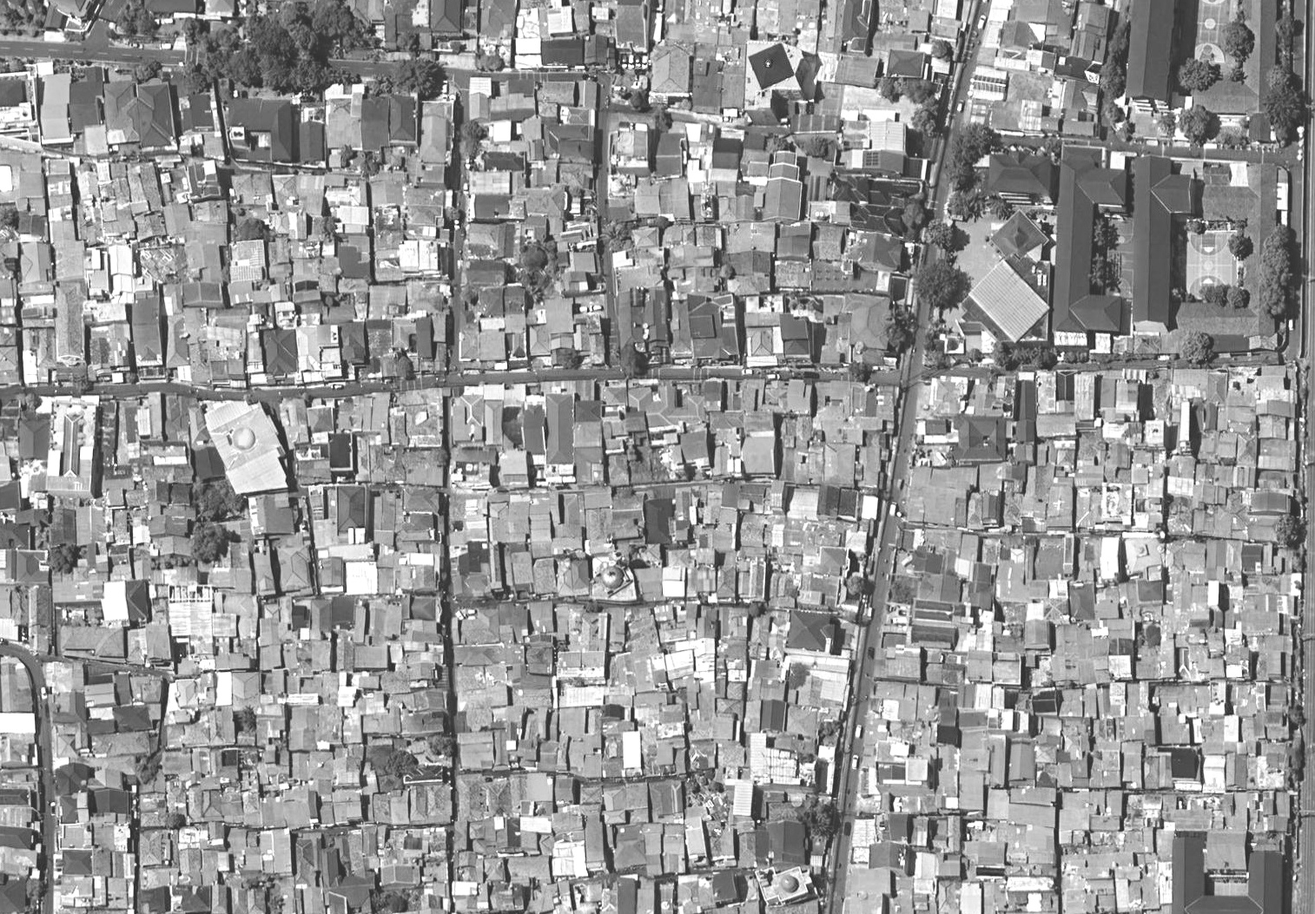building: (1173, 160, 1289, 355), (1051, 147, 1128, 336), (1188, 0, 1279, 142), (1130, 155, 1195, 330), (201, 381, 292, 506), (948, 258, 1052, 361), (1171, 838, 1282, 913), (736, 42, 814, 125), (45, 392, 100, 502), (826, 175, 922, 237), (1122, 0, 1175, 111), (224, 96, 297, 162), (804, 261, 911, 304), (906, 463, 973, 529), (99, 401, 140, 506), (616, 287, 669, 368), (625, 378, 704, 432), (982, 145, 1052, 205), (686, 292, 740, 369), (988, 209, 1052, 273), (836, 294, 892, 366), (128, 276, 165, 383), (839, 122, 935, 163), (611, 224, 667, 290), (173, 93, 224, 165), (838, 85, 921, 129), (842, 232, 919, 279), (166, 584, 215, 655), (815, 382, 898, 422), (291, 323, 343, 385), (36, 63, 74, 146), (136, 80, 178, 154), (782, 672, 850, 717), (994, 531, 1036, 603), (102, 68, 140, 147), (759, 151, 801, 221), (84, 325, 132, 386), (0, 72, 39, 145), (809, 296, 848, 368), (246, 493, 307, 539), (836, 152, 928, 182), (648, 43, 693, 104), (684, 121, 721, 195), (274, 535, 315, 600), (55, 626, 125, 664), (953, 417, 1010, 463), (476, 0, 515, 67), (1192, 492, 1247, 539), (1163, 571, 1204, 634), (753, 865, 811, 909), (324, 85, 363, 150), (815, 414, 887, 449), (14, 393, 51, 461), (958, 732, 989, 813), (66, 67, 104, 133), (401, 733, 454, 779), (55, 285, 86, 363), (663, 426, 712, 475), (785, 611, 838, 656), (1170, 369, 1211, 427), (403, 388, 443, 447), (906, 603, 956, 650), (1005, 70, 1064, 109), (1013, 0, 1075, 37), (415, 101, 452, 163), (306, 485, 342, 548), (717, 0, 754, 61), (747, 609, 788, 663), (365, 487, 400, 550), (928, 370, 973, 419), (543, 394, 574, 464), (776, 0, 820, 49), (113, 665, 165, 706), (1054, 627, 1092, 683), (247, 537, 280, 600), (50, 222, 84, 283), (0, 656, 36, 713), (1002, 825, 1056, 863), (610, 127, 651, 177), (40, 0, 100, 34), (639, 490, 675, 546), (1196, 716, 1245, 757), (28, 586, 56, 656), (319, 847, 348, 914), (971, 373, 1013, 419), (725, 254, 772, 295), (400, 544, 438, 594), (1111, 329, 1184, 355), (840, 0, 873, 56), (746, 660, 786, 706), (127, 161, 161, 215), (779, 315, 813, 369), (607, 823, 646, 870), (912, 570, 964, 605), (598, 654, 633, 706), (146, 483, 196, 519), (591, 561, 636, 601), (783, 519, 841, 550), (766, 823, 805, 869), (451, 387, 483, 443), (628, 648, 666, 695), (553, 650, 604, 685), (17, 242, 51, 294), (275, 396, 309, 448), (22, 329, 53, 386), (365, 321, 396, 378), (227, 239, 266, 284), (620, 609, 659, 654), (796, 575, 842, 613), (1094, 484, 1131, 531), (608, 493, 645, 540), (820, 443, 857, 490), (53, 877, 107, 909), (876, 763, 930, 795), (87, 756, 136, 791), (18, 155, 46, 216), (1114, 368, 1145, 423), (962, 565, 998, 612), (785, 654, 850, 680), (466, 196, 524, 225), (1205, 831, 1247, 871), (361, 94, 389, 154), (163, 677, 198, 725), (185, 161, 224, 204), (1124, 537, 1161, 582), (1091, 368, 1121, 423), (723, 222, 773, 255), (1130, 450, 1165, 497), (550, 490, 585, 537), (1086, 747, 1121, 794), (745, 326, 784, 368), (1221, 789, 1259, 832), (956, 611, 994, 654), (616, 1, 648, 52), (691, 62, 723, 113), (660, 0, 696, 45), (543, 127, 592, 160), (667, 302, 693, 364), (875, 648, 921, 683), (710, 126, 745, 172), (227, 828, 261, 875), (90, 732, 151, 758), (260, 828, 292, 877), (978, 461, 1027, 493), (1059, 856, 1086, 914), (694, 0, 721, 58), (831, 55, 877, 89), (0, 770, 39, 810), (502, 385, 526, 450), (1072, 0, 1113, 38), (109, 244, 134, 306), (709, 414, 744, 458), (738, 134, 771, 180), (161, 316, 189, 370), (669, 271, 723, 299), (655, 126, 684, 178), (998, 21, 1045, 53), (1171, 749, 1203, 796), (1024, 595, 1071, 627), (650, 777, 682, 824), (144, 625, 174, 675), (327, 433, 357, 483), (134, 391, 162, 444), (139, 830, 177, 869), (536, 81, 574, 120), (366, 285, 406, 322), (402, 449, 442, 486), (716, 745, 752, 786), (912, 525, 961, 555), (582, 813, 606, 874), (1019, 100, 1062, 134), (263, 330, 297, 373), (869, 30, 916, 61), (389, 94, 417, 146), (655, 179, 688, 223), (684, 810, 709, 868), (183, 244, 220, 283), (191, 443, 227, 483), (398, 512, 443, 544), (1008, 799, 1056, 829), (775, 221, 811, 261), (881, 50, 926, 82), (1067, 29, 1108, 64), (337, 235, 371, 277), (352, 641, 403, 669), (221, 868, 252, 914), (272, 298, 321, 327), (229, 170, 272, 203), (1242, 572, 1301, 596), (83, 247, 109, 301), (733, 182, 764, 227), (457, 608, 498, 642), (206, 564, 252, 594), (387, 689, 447, 712), (40, 662, 83, 694), (742, 295, 785, 327), (114, 705, 163, 733), (18, 294, 57, 329), (270, 171, 301, 215), (606, 175, 635, 222), (480, 385, 503, 444), (459, 731, 492, 772), (811, 224, 844, 265), (210, 590, 260, 617), (307, 398, 337, 443), (292, 837, 319, 887), (48, 502, 77, 548), (361, 823, 390, 869), (1240, 544, 1283, 575), (323, 175, 366, 206), (855, 446, 886, 489), (969, 67, 1007, 102), (660, 647, 698, 682), (1061, 79, 1100, 113), (1083, 854, 1134, 880), (812, 747, 838, 798), (725, 379, 764, 413), (472, 149, 525, 174), (1004, 743, 1034, 787), (1226, 366, 1258, 407), (987, 706, 1028, 738), (88, 792, 133, 821), (287, 707, 316, 752), (298, 122, 325, 170), (638, 725, 662, 779), (551, 842, 586, 879), (0, 733, 38, 767), (455, 693, 489, 731), (1259, 743, 1289, 786), (1021, 622, 1051, 665), (449, 465, 495, 493), (1176, 799, 1215, 832), (999, 481, 1025, 530), (849, 818, 875, 867), (743, 437, 774, 478), (337, 487, 364, 534), (14, 551, 50, 586), (291, 256, 319, 301), (346, 872, 376, 914), (487, 705, 524, 739), (843, 870, 893, 895), (162, 393, 188, 441), (177, 824, 225, 850), (366, 394, 390, 446), (406, 655, 445, 687), (497, 452, 529, 491), (674, 492, 700, 540), (572, 313, 601, 356), (540, 38, 583, 67), (525, 495, 552, 541), (458, 776, 485, 822), (462, 258, 506, 286), (557, 249, 601, 277), (74, 506, 104, 547), (419, 240, 449, 281), (332, 747, 362, 788), (602, 406, 627, 455), (813, 548, 850, 581), (457, 311, 480, 364), (407, 284, 449, 313), (714, 701, 743, 743), (163, 722, 208, 749), (316, 707, 343, 752), (1257, 440, 1296, 471), (46, 693, 85, 724), (92, 823, 135, 851), (749, 0, 777, 43), (507, 494, 531, 544), (721, 66, 745, 116), (925, 18, 965, 48), (667, 246, 719, 269), (294, 176, 323, 217), (1131, 497, 1164, 533), (367, 601, 400, 637), (446, 517, 490, 544), (1034, 534, 1061, 578), (1055, 807, 1088, 843), (214, 638, 251, 670), (525, 395, 545, 454), (231, 672, 262, 710), (1146, 377, 1170, 426), (1108, 639, 1136, 681), (821, 0, 844, 51), (1046, 487, 1072, 532), (0, 849, 39, 879), (449, 545, 488, 575), (507, 857, 550, 884), (104, 877, 137, 912), (487, 541, 508, 596), (399, 763, 447, 787), (633, 567, 665, 603), (715, 605, 747, 641), (783, 381, 815, 417), (1074, 371, 1097, 421), (1241, 615, 1291, 638), (206, 707, 234, 748), (84, 672, 115, 709), (527, 640, 558, 677), (340, 323, 366, 367), (384, 829, 422, 859), (540, 379, 597, 399), (1243, 597, 1300, 617), (1125, 829, 1155, 867), (810, 81, 840, 119), (987, 736, 1008, 790), (624, 782, 651, 824), (125, 579, 149, 626), (152, 563, 197, 588), (508, 119, 541, 153), (785, 487, 818, 521), (0, 149, 20, 205), (840, 521, 872, 556), (91, 851, 134, 877), (101, 580, 127, 623), (283, 785, 309, 828), (50, 727, 86, 758), (526, 186, 562, 217), (1198, 435, 1235, 465), (131, 211, 168, 241), (1229, 685, 1266, 715), (766, 573, 796, 610), (187, 397, 211, 443), (1077, 538, 1101, 584), (735, 566, 764, 604), (1099, 536, 1121, 586), (240, 772, 260, 827), (1100, 423, 1142, 449), (171, 886, 210, 914), (399, 596, 441, 622), (402, 622, 441, 650), (380, 861, 419, 889), (498, 603, 526, 642), (55, 794, 89, 826), (331, 791, 363, 825), (395, 0, 429, 32), (805, 142, 837, 176), (309, 781, 332, 828), (1255, 414, 1295, 441), (231, 618, 258, 658), (490, 97, 535, 121), (936, 747, 957, 798), (1068, 582, 1096, 620), (958, 683, 996, 711), (657, 739, 685, 777), (750, 733, 770, 786), (160, 203, 192, 236), (494, 221, 518, 265), (873, 698, 917, 722), (772, 734, 816, 758), (53, 762, 87, 793), (345, 561, 376, 595), (1077, 428, 1104, 467), (599, 785, 626, 824), (281, 642, 310, 678), (918, 418, 954, 447), (888, 877, 917, 913), (1075, 488, 1101, 528), (718, 640, 744, 680), (336, 395, 364, 432), (556, 162, 593, 190), (662, 828, 685, 873), (330, 208, 368, 235), (763, 800, 801, 827), (771, 749, 798, 787), (963, 841, 1004, 866), (807, 200, 848, 225), (583, 35, 614, 68), (876, 813, 909, 844), (778, 418, 811, 449), (1155, 862, 1175, 913), (642, 825, 662, 876), (710, 870, 740, 904), (785, 706, 819, 736), (1246, 514, 1281, 543), (316, 559, 345, 594), (634, 179, 660, 218), (511, 687, 557, 709), (201, 850, 229, 886), (509, 547, 533, 589), (932, 817, 960, 853), (1254, 471, 1294, 496), (470, 170, 510, 195), (1120, 743, 1140, 793), (868, 678, 918, 698), (1104, 446, 1131, 483), (1024, 462, 1051, 499), (296, 458, 333, 485), (589, 0, 616, 37), (575, 449, 602, 486), (488, 885, 525, 912), (429, 1, 461, 32), (1157, 716, 1188, 748), (733, 784, 755, 829), (693, 639, 715, 684), (182, 283, 225, 306), (451, 575, 489, 601), (17, 214, 51, 243), (564, 220, 598, 249), (773, 262, 807, 291), (1224, 754, 1248, 795), (713, 512, 737, 553), (425, 783, 450, 822), (795, 446, 820, 485), (546, 299, 573, 335), (580, 612, 607, 648), (143, 465, 194, 484), (165, 779, 187, 823), (220, 781, 242, 825), (546, 0, 572, 37), (914, 686, 940, 723), (674, 876, 700, 913), (738, 830, 764, 867), (76, 161, 100, 201), (86, 301, 126, 325), (227, 283, 267, 307), (965, 651, 994, 684), (903, 0, 932, 33), (1124, 681, 1152, 715), (1217, 408, 1255, 433), (1244, 637, 1294, 656), (0, 809, 43, 831), (377, 551, 399, 594), (446, 498, 489, 520), (452, 444, 497, 465), (991, 650, 1018, 685), (1009, 787, 1056, 807), (213, 541, 249, 567), (1201, 755, 1225, 794), (404, 188, 453, 207), (211, 748, 239, 781), (584, 508, 612, 541), (910, 548, 943, 576), (605, 608, 627, 650), (738, 483, 766, 516), (872, 2, 905, 30), (1035, 414, 1075, 437), (402, 489, 442, 512), (978, 491, 1001, 531), (477, 332, 504, 366), (737, 517, 764, 551), (53, 851, 91, 875), (177, 850, 201, 888), (453, 647, 501, 666), (347, 830, 368, 873), (509, 669, 552, 690), (186, 223, 227, 245), (107, 546, 132, 582), (1054, 689, 1084, 719), (790, 118, 835, 138), (558, 706, 587, 737), (532, 558, 555, 597), (557, 687, 604, 706), (523, 709, 550, 742), (942, 654, 969, 687), (550, 815, 583, 842), (1016, 372, 1034, 421), (153, 536, 193, 558), (1002, 862, 1057, 878), (1191, 486, 1226, 511), (1020, 498, 1045, 533), (1225, 645, 1250, 680), (874, 740, 909, 765), (815, 487, 840, 522), (189, 201, 227, 224), (622, 733, 641, 779), (552, 528, 582, 557), (1267, 653, 1296, 683), (708, 169, 737, 199), (1174, 402, 1191, 453), (330, 599, 354, 635), (573, 881, 600, 913), (759, 703, 786, 735), (1247, 493, 1290, 513), (907, 818, 933, 851), (577, 782, 603, 815), (1035, 369, 1054, 414), (609, 109, 654, 128), (1134, 647, 1159, 681), (1204, 540, 1224, 582), (0, 523, 30, 551), (149, 444, 189, 465), (1209, 678, 1230, 718), (843, 893, 883, 914), (1137, 873, 1158, 913), (509, 774, 529, 816), (602, 736, 622, 778), (702, 380, 726, 415), (139, 887, 170, 914), (1033, 732, 1060, 763), (993, 50, 1031, 72), (913, 874, 935, 912), (778, 550, 816, 572), (1219, 580, 1245, 612), (868, 845, 900, 871), (688, 568, 714, 600), (557, 139, 593, 162), (527, 603, 552, 636), (1094, 587, 1119, 620), (1154, 686, 1179, 719), (1255, 398, 1296, 418), (0, 348, 20, 389), (923, 648, 943, 689), (399, 240, 420, 279), (488, 499, 507, 542), (57, 825, 91, 849), (140, 793, 164, 827), (414, 164, 451, 186), (488, 780, 510, 817), (991, 102, 1019, 131), (528, 161, 557, 189), (936, 849, 964, 878), (85, 707, 115, 734), (255, 719, 285, 746), (477, 287, 504, 317), (687, 742, 714, 772), (1167, 500, 1190, 535), (0, 880, 25, 912), (370, 181, 402, 206), (571, 560, 591, 600), (977, 535, 1002, 567), (407, 783, 426, 825), (488, 669, 509, 707), (583, 735, 602, 777), (112, 178, 130, 222), (335, 671, 357, 707), (1175, 687, 1197, 723), (1063, 721, 1087, 754), (930, 722, 959, 749), (525, 775, 552, 804), (530, 886, 559, 913), (695, 606, 718, 640), (764, 484, 787, 518), (556, 106, 595, 126), (936, 0, 975, 20), (259, 604, 278, 645), (140, 868, 177, 889), (382, 446, 403, 483), (714, 566, 735, 603), (82, 126, 107, 157), (662, 570, 687, 601), (309, 600, 331, 635), (160, 284, 184, 316), (744, 412, 776, 436), (406, 207, 446, 226), (935, 687, 955, 725), (965, 824, 1005, 843), (1056, 56, 1089, 79), (421, 885, 448, 913), (456, 665, 484, 692), (1115, 717, 1143, 744), (1030, 688, 1057, 716), (1090, 719, 1117, 747), (600, 376, 626, 405), (184, 308, 209, 338), (259, 797, 284, 827), (1264, 711, 1289, 741), (0, 282, 17, 326), (910, 727, 932, 761), (979, 19, 1003, 50), (466, 224, 497, 248), (543, 465, 574, 489), (662, 223, 693, 247), (142, 1, 195, 15), (387, 407, 406, 446), (617, 874, 636, 913), (0, 239, 18, 280), (187, 340, 210, 372), (310, 639, 333, 671), (504, 333, 527, 365), (0, 829, 35, 850), (1124, 792, 1159, 813), (1153, 824, 1174, 859), (492, 729, 509, 772), (393, 320, 415, 353), (937, 879, 959, 912), (307, 752, 332, 781), (494, 820, 519, 849), (130, 508, 149, 546), (208, 309, 246, 328), (110, 510, 130, 546), (554, 559, 572, 599), (1264, 683, 1294, 707), (0, 481, 21, 515), (415, 317, 432, 359), (519, 814, 553, 835), (558, 271, 589, 294), (550, 337, 573, 368), (571, 401, 602, 424), (606, 455, 629, 486), (1190, 586, 1209, 623), (291, 600, 310, 637), (1188, 644, 1207, 681), (799, 759, 818, 796), (855, 767, 881, 794), (909, 852, 936, 878), (693, 223, 720, 249), (1257, 366, 1285, 391), (100, 221, 135, 241), (149, 518, 190, 535), (1181, 543, 1205, 572), (656, 703, 685, 727), (695, 875, 716, 908), (1165, 455, 1195, 478), (161, 750, 191, 773), (1241, 713, 1264, 743), (463, 1, 477, 50), (133, 547, 152, 583), (410, 714, 446, 733), (246, 304, 272, 330), (421, 857, 447, 883), (299, 887, 324, 914), (1061, 536, 1076, 581), (432, 312, 453, 344), (528, 325, 549, 357), (956, 533, 980, 561), (892, 797, 934, 813), (686, 717, 714, 741), (567, 196, 596, 219), (390, 788, 408, 825), (0, 715, 35, 734), (1258, 387, 1297, 404), (1236, 433, 1256, 466), (322, 303, 355, 323), (203, 790, 223, 823), (517, 741, 539, 771), (98, 183, 114, 224), (1158, 609, 1174, 650), (987, 789, 1008, 820), (836, 491, 857, 522), (573, 81, 597, 108), (638, 877, 656, 913), (804, 178, 831, 202), (1207, 372, 1226, 406), (407, 226, 450, 241), (1142, 421, 1165, 449), (574, 424, 602, 447), (856, 494, 879, 522), (959, 881, 979, 913), (357, 691, 386, 713), (255, 695, 284, 717), (517, 9, 539, 38), (12, 509, 47, 527), (983, 882, 1004, 912), (11, 589, 28, 626), (1106, 684, 1125, 717), (1054, 759, 1073, 792), (138, 769, 163, 794), (356, 435, 369, 483), (881, 625, 907, 649), (1136, 582, 1163, 605), (365, 738, 392, 761), (1025, 50, 1056, 70), (1176, 627, 1207, 647), (537, 742, 557, 773), (0, 1, 44, 15), (583, 488, 611, 510), (1275, 791, 1290, 832), (1050, 333, 1086, 350), (127, 631, 145, 665), (372, 793, 390, 827), (777, 447, 794, 483), (737, 874, 758, 903), (692, 196, 713, 225), (1070, 758, 1089, 790), (124, 484, 148, 509), (383, 0, 395, 50), (955, 715, 985, 735), (266, 237, 289, 263), (211, 614, 237, 637), (255, 646, 281, 669), (346, 0, 369, 26), (1107, 620, 1133, 643), (292, 445, 327, 462), (1140, 714, 1157, 749), (632, 692, 667, 709), (1166, 476, 1193, 498), (201, 0, 234, 18), (382, 670, 409, 692), (362, 763, 380, 796), (244, 332, 263, 363), (1042, 34, 1070, 55), (361, 714, 389, 735), (992, 635, 1020, 656), (1006, 878, 1055, 890), (1142, 751, 1157, 790), (504, 285, 524, 314), (1114, 877, 1131, 911), (1160, 646, 1176, 682), (743, 702, 761, 734), (655, 627, 687, 645), (932, 791, 958, 813), (342, 716, 361, 746), (468, 92, 487, 122), (1132, 604, 1162, 623), (1062, 119, 1095, 136), (170, 66, 187, 99), (588, 334, 605, 367), (712, 447, 729, 480), (319, 672, 335, 707), (369, 0, 383, 40), (573, 0, 591, 31), (1157, 753, 1172, 790), (1231, 467, 1255, 490), (1073, 468, 1102, 487), (377, 168, 406, 187), (764, 521, 783, 550), (522, 218, 547, 240), (1178, 159, 1204, 180), (986, 0, 1012, 21), (425, 827, 446, 853), (885, 721, 911, 742), (553, 778, 574, 804), (1225, 540, 1241, 574), (1120, 585, 1135, 621), (1202, 166, 1230, 185), (368, 445, 382, 483), (721, 829, 735, 867), (215, 672, 231, 705), (197, 674, 213, 707), (336, 639, 352, 672), (261, 671, 285, 693), (556, 881, 573, 912), (1056, 371, 1074, 400), (383, 148, 409, 168), (716, 198, 736, 224), (374, 773, 401, 792), (1204, 631, 1223, 658), (1225, 614, 1241, 646), (1089, 626, 1106, 656), (1084, 876, 1114, 893), (864, 721, 886, 744), (1013, 442, 1034, 466), (187, 787, 201, 823), (1160, 793, 1178, 821), (565, 606, 583, 634), (652, 606, 673, 630), (1096, 687, 1111, 720), (719, 484, 738, 510), (1165, 543, 1182, 572), (455, 867, 484, 884), (288, 213, 306, 240), (707, 835, 725, 862), (1034, 763, 1056, 785), (268, 282, 291, 303), (520, 833, 541, 856), (968, 494, 981, 531), (1253, 653, 1269, 683), (1087, 816, 1119, 831), (484, 857, 504, 881), (449, 881, 479, 897), (631, 707, 661, 723), (0, 552, 14, 586), (569, 741, 583, 775), (190, 750, 209, 775), (1060, 790, 1085, 809), (774, 902, 817, 913), (290, 753, 308, 779), (699, 685, 712, 721), (975, 865, 1004, 881), (1174, 649, 1188, 682), (317, 257, 340, 277), (585, 541, 612, 558), (699, 503, 718, 527), (1087, 336, 1112, 354), (338, 278, 368, 293), (211, 884, 227, 912), (333, 836, 349, 864), (513, 53, 541, 69), (1194, 684, 1208, 716), (1093, 656, 1110, 682), (1015, 420, 1035, 442), (503, 313, 525, 333), (969, 103, 988, 126), (1213, 465, 1232, 488), (1251, 839, 1280, 854), (1128, 880, 1143, 909), (656, 724, 685, 739), (683, 603, 698, 632), (286, 693, 317, 707), (521, 803, 552, 817), (555, 742, 569, 773), (516, 36, 540, 54), (1259, 790, 1275, 817), (1085, 790, 1103, 814), (1245, 757, 1258, 790), (554, 604, 567, 637), (247, 888, 264, 913), (1104, 790, 1121, 815), (690, 551, 715, 568), (504, 81, 534, 95), (1007, 890, 1027, 911), (354, 606, 365, 644), (1025, 889, 1044, 911), (666, 550, 688, 569), (356, 673, 380, 690), (478, 317, 502, 334), (638, 544, 662, 561), (1203, 403, 1217, 432), (453, 823, 467, 852), (1106, 150, 1126, 170), (451, 851, 476, 867), (974, 47, 995, 66), (1194, 465, 1213, 486), (469, 77, 490, 96), (1096, 893, 1115, 914), (1229, 164, 1247, 186), (530, 542, 552, 560), (686, 683, 697, 718), (278, 624, 296, 645), (1040, 890, 1058, 911), (606, 722, 635, 735), (586, 709, 601, 734), (1057, 450, 1074, 472), (0, 587, 11, 621), (602, 707, 624, 724), (374, 267, 402, 280), (1083, 689, 1096, 717), (267, 265, 291, 280), (697, 530, 714, 551), (0, 620, 16, 642), (453, 898, 475, 914), (434, 345, 447, 372), (492, 123, 510, 142), (876, 793, 893, 813), (1046, 582, 1067, 598), (601, 888, 615, 912), (504, 644, 522, 662), (726, 682, 744, 700), (511, 173, 525, 196), (1209, 658, 1223, 681), (482, 818, 496, 841), (201, 776, 221, 792), (179, 772, 200, 787), (1084, 891, 1099, 912), (278, 598, 291, 622), (476, 884, 488, 910), (0, 327, 17, 345), (319, 276, 336, 294), (951, 560, 969, 577), (527, 140, 542, 160), (1045, 440, 1056, 467), (275, 213, 288, 235), (993, 688, 1006, 710), (300, 678, 319, 693), (109, 162, 127, 177), (236, 731, 255, 745), (1207, 583, 1218, 607), (389, 712, 400, 736), (1056, 400, 1074, 414), (96, 162, 109, 181), (285, 675, 298, 694), (469, 823, 484, 839), (472, 841, 488, 856), (548, 219, 561, 237), (401, 714, 411, 737), (1052, 440, 1074, 450), (265, 746, 277, 764), (1053, 477, 1072, 488), (328, 152, 340, 169), (1037, 445, 1046, 467), (389, 739, 407, 750), (419, 359, 433, 373), (713, 682, 726, 697), (714, 905, 738, 913), (1020, 519, 1033, 533), (1261, 817, 1273, 830), (739, 905, 759, 912), (555, 239, 566, 251), (1054, 466, 1064, 477)
tree: (930, 114, 1001, 197), (1253, 61, 1315, 146), (903, 249, 975, 321), (386, 48, 451, 104), (1259, 225, 1297, 319), (299, 0, 366, 53), (1169, 96, 1226, 153), (241, 11, 296, 67), (191, 477, 247, 524), (184, 516, 235, 567), (1213, 16, 1263, 65), (919, 210, 969, 258), (369, 741, 420, 787), (256, 48, 302, 98), (221, 43, 266, 93), (292, 62, 360, 95), (1173, 52, 1224, 95), (284, 16, 327, 66), (195, 46, 251, 82), (990, 342, 1059, 371), (173, 55, 216, 100), (909, 91, 951, 133), (799, 794, 838, 837), (208, 13, 249, 53), (115, 0, 159, 37), (886, 305, 917, 354), (897, 194, 934, 235), (945, 189, 986, 224), (454, 120, 488, 162), (1222, 227, 1258, 263), (126, 53, 166, 85), (0, 8, 45, 36), (1106, 18, 1133, 64), (1272, 8, 1307, 43), (986, 190, 1021, 224), (1274, 513, 1307, 549), (130, 751, 163, 786), (801, 130, 836, 163), (346, 21, 384, 51), (903, 76, 941, 106), (875, 72, 910, 104), (520, 240, 553, 273), (1094, 208, 1117, 254), (522, 269, 555, 301), (1288, 732, 1307, 787), (197, 31, 232, 60), (377, 889, 419, 913), (923, 325, 947, 367), (604, 220, 634, 253), (1181, 332, 1214, 362), (354, 148, 385, 179), (1090, 248, 1113, 289), (1100, 61, 1125, 98), (275, 2, 311, 27), (314, 210, 344, 240), (233, 702, 263, 732), (233, 215, 268, 240), (49, 543, 79, 572), (426, 730, 458, 757), (181, 17, 211, 45), (440, 203, 470, 231), (619, 351, 646, 380), (0, 53, 34, 75), (847, 361, 881, 383), (476, 49, 507, 73), (1200, 281, 1230, 305), (888, 582, 918, 605), (15, 386, 41, 412), (1087, 353, 1143, 365), (25, 877, 45, 910), (338, 140, 363, 165), (787, 662, 810, 689), (456, 283, 480, 308), (626, 86, 650, 111), (1226, 283, 1250, 308), (70, 367, 94, 391), (241, 870, 271, 889), (227, 201, 250, 224), (563, 347, 585, 371), (396, 30, 421, 51), (767, 134, 794, 153), (266, 890, 287, 914), (846, 572, 867, 596), (931, 39, 955, 60), (0, 203, 19, 229), (163, 810, 187, 830), (819, 719, 843, 739), (656, 102, 673, 130), (697, 766, 719, 787), (116, 141, 142, 158), (373, 75, 394, 95), (1107, 99, 1123, 125), (1046, 135, 1063, 158), (684, 777, 702, 795), (310, 104, 326, 124), (1062, 349, 1078, 363), (709, 781, 722, 792)
